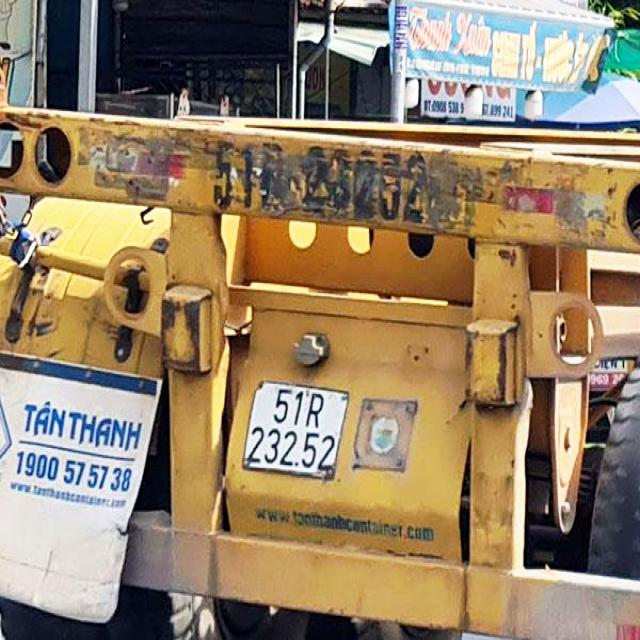license_plate: (241, 380, 349, 482)
